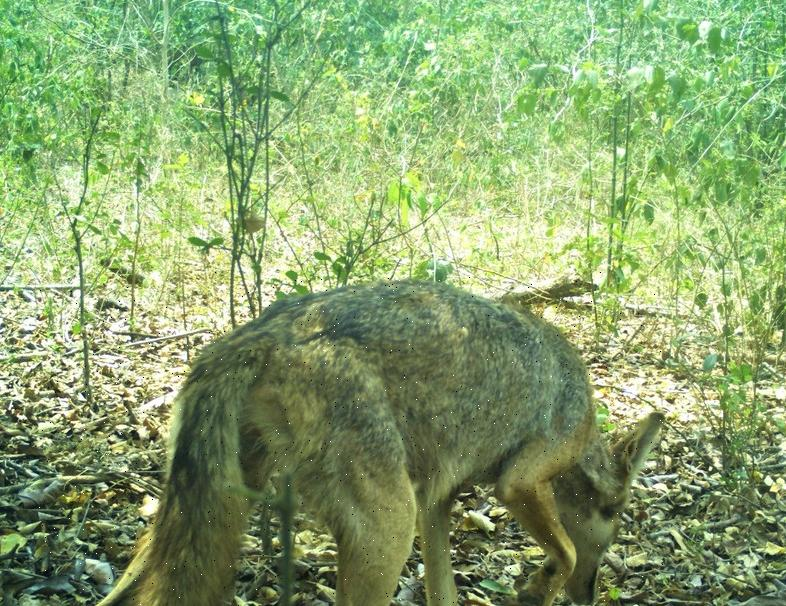Coyote: (33, 271, 666, 606)
